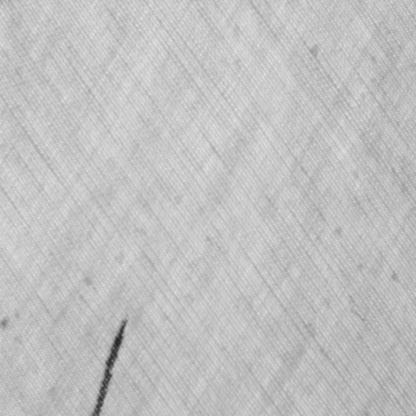oil spot: (92, 312, 130, 415)
